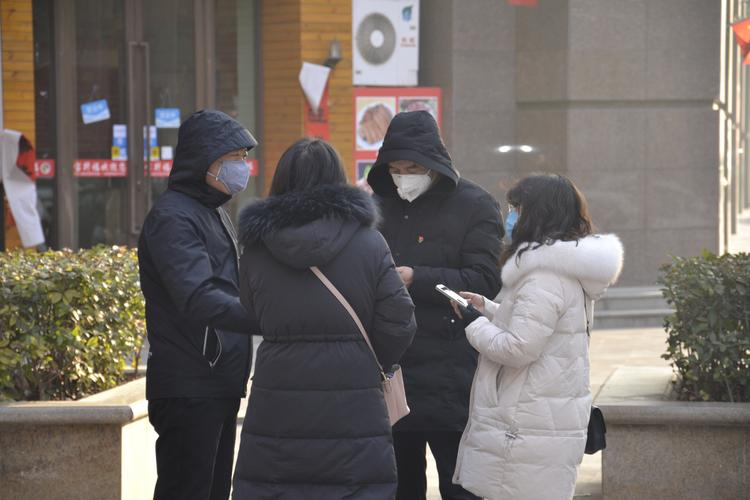mask: (384, 147, 437, 204), (205, 131, 250, 198)
